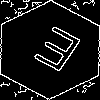E: (25, 25, 84, 82)
